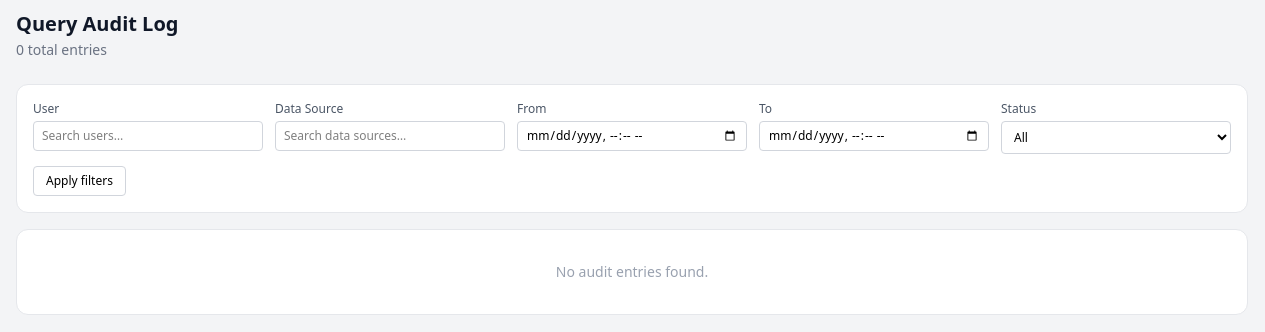
Test: QueryAuditPage › shows user options in typeahead dropdown
The image size is (1265, 332).
Step 1. Type "ali" into the dropdown with placeholder "Search users…" → (148, 136), box 33,121 -> 263,151
Wait 350 ms
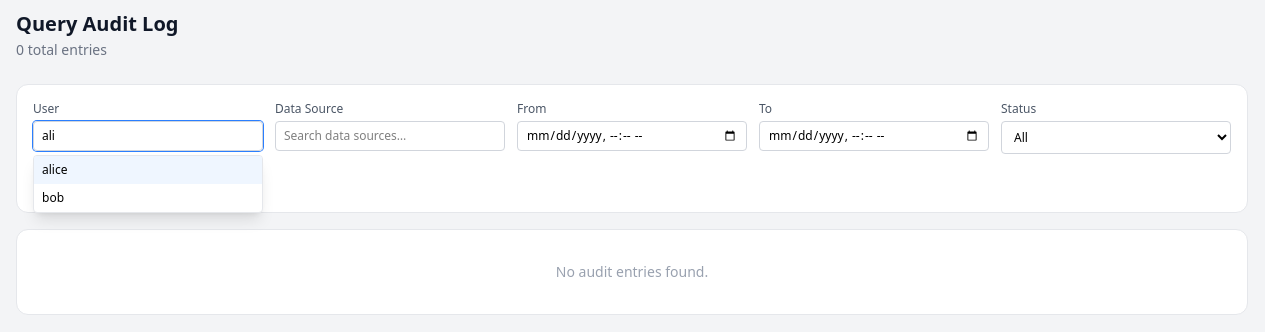
Check: the text "alice" is shown, box 42,161 -> 68,178
